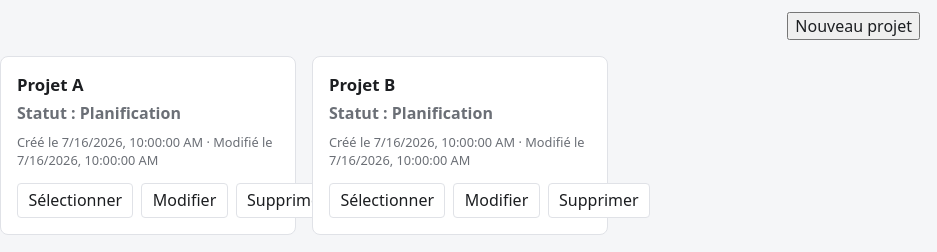
Test: ProjectsPage — suppression › désactive le bouton Supprimer des autres cartes pendant qu'une suppression est en cours (aucun clic mort)
The width and height of the screenshot is (937, 252).
Check: the heading "Projet A" is shown, box [17,73,84,96]
What coordinates should you click on to do the following:
click the button "Supprimer" below "Projet A"
I would click on:
 (287, 200)
Its box is [236,183,338,218].
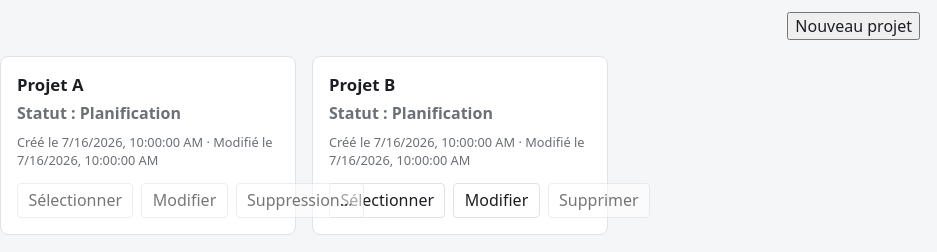
Check: the button "Supprimer" is disabled
What coordinates should you click on to do the following:
click the button "Supprimer"
I would click on:
 (599, 200)
Its box is [548,183,650,218].
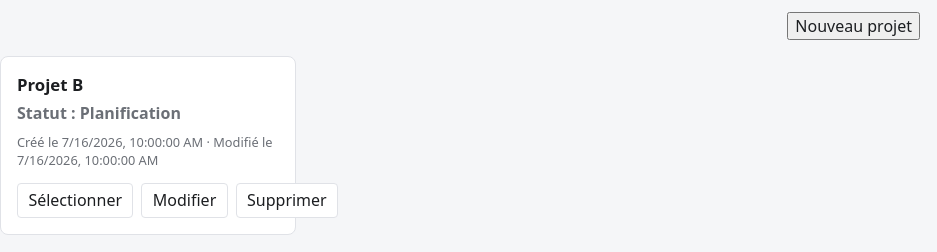
Check: the heading "Projet B" is shown, box [17,73,83,96]
Check: the button "Supprimer" is enabled, box [236,183,338,218]
